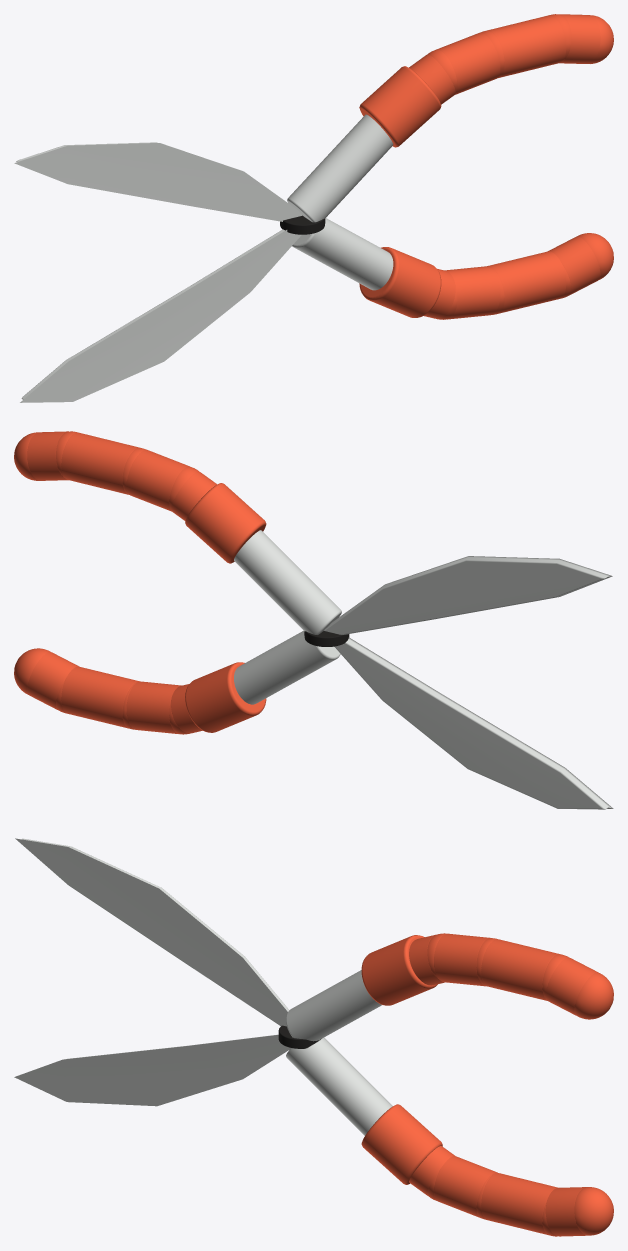
File: secateurs.glb
3 renders of one model, top to bottom at view 1: azimuth 30°, elevation 25°; view 2: azimuth 150°, elevation 25°; view 3: azimuth 330°, elevation 25°, orthographic.
Visible parts, largest first — view 1: SM_Secateur_Lower_Red_Handle_Fixed.001; view 2: SM_Secateur_Lower_Red_Handle_Fixed.001; view 3: SM_Secateur_Lower_Red_Handle_Fixed.001.
Boxes of the visible parts, <box> form: SM_Secateur_Lower_Red_Handle_Fixed.001: <box>14,14,613,402</box>; SM_Secateur_Lower_Red_Handle_Fixed.001: <box>14,431,613,809</box>; SM_Secateur_Lower_Red_Handle_Fixed.001: <box>14,838,613,1236</box>.
Size of the model in its own units: 1.05 by 0.472 by 0.087.
